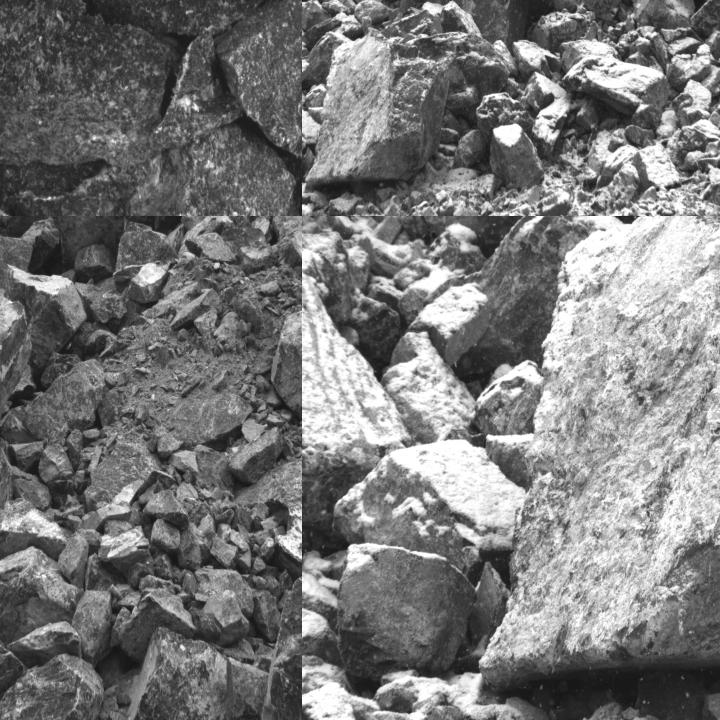stone: (477, 216, 719, 693), (302, 227, 409, 531), (0, 0, 172, 165), (332, 439, 523, 578), (303, 25, 457, 190), (337, 543, 477, 685), (123, 625, 269, 719), (214, 0, 301, 154), (164, 120, 296, 215), (151, 32, 245, 147), (0, 544, 83, 674), (0, 265, 87, 378), (397, 271, 490, 364), (562, 41, 666, 112), (421, 0, 578, 46), (232, 435, 301, 536), (24, 357, 104, 444), (91, 0, 263, 40), (0, 653, 104, 719), (84, 439, 173, 513), (163, 393, 252, 451), (475, 360, 540, 437), (113, 220, 178, 290), (54, 166, 139, 215), (524, 75, 572, 155), (59, 216, 125, 272), (7, 620, 83, 668), (269, 312, 301, 424), (72, 590, 112, 667), (228, 428, 283, 483), (491, 126, 544, 183), (98, 526, 154, 579), (478, 94, 530, 146), (201, 592, 248, 646), (634, 143, 682, 192), (302, 606, 340, 664), (672, 75, 712, 128), (21, 218, 59, 273), (552, 702, 668, 719), (193, 444, 234, 492), (0, 227, 33, 286), (275, 501, 301, 575), (143, 490, 191, 526), (302, 573, 338, 620), (76, 503, 132, 533), (74, 244, 117, 283), (58, 535, 88, 590), (184, 234, 238, 263), (86, 552, 124, 592), (41, 351, 82, 388), (631, 0, 693, 23), (277, 226, 301, 285), (686, 0, 719, 40), (179, 528, 210, 568), (2, 216, 55, 238), (580, 0, 635, 20), (302, 0, 332, 34), (210, 536, 238, 570), (389, 706, 461, 719), (272, 216, 301, 243), (703, 168, 719, 216), (302, 110, 321, 149), (633, 104, 659, 131), (365, 709, 411, 719)
